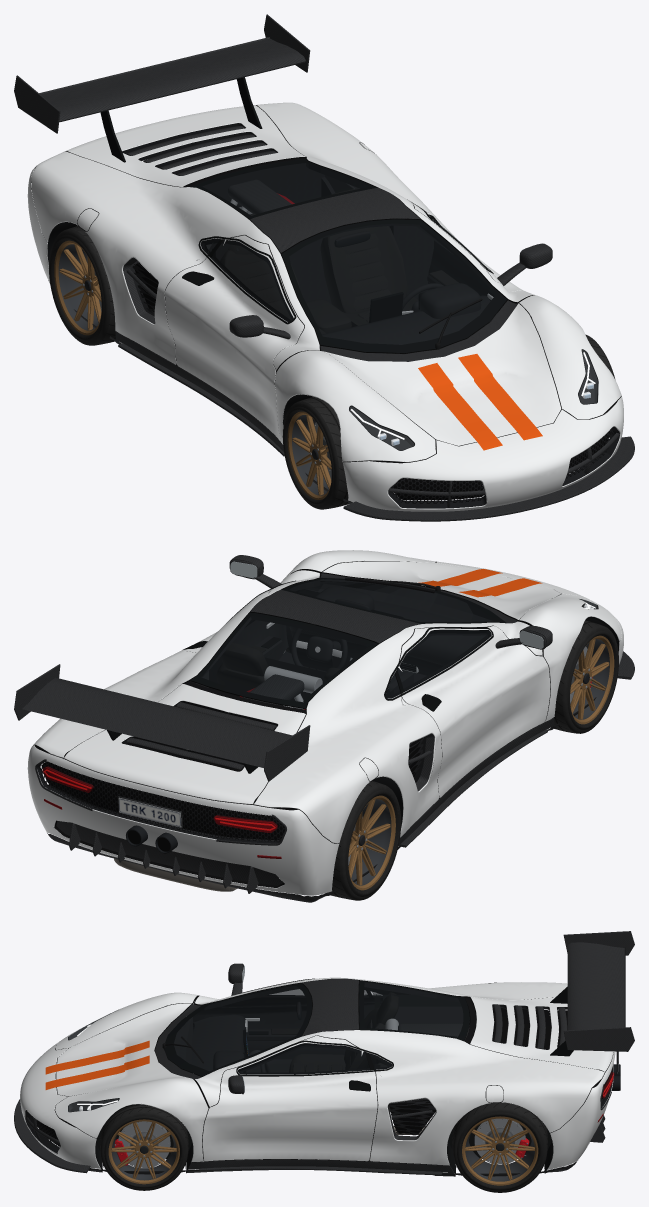
File: track-day-coupe.glb
3 renders of one model, top to bottom at view 1: azimuth 30°, elevation 25°; view 2: azimuth 150°, elevation 25°; view 3: azimuth 270°, elevation 25°, orthographic. The views are drawn at different scales.
Parts seen in each view (by area): view 1: Body, Wheel_RR, Wheel_FR; view 2: Body, Wheel_RR, Wheel_FR, Steering_Wheel; view 3: Body, Wheel_RL, Wheel_FL.
Part boxes in pixels (x1,y1,x2,y2): Body: [14, 14, 634, 521]; Wheel_RR: [49, 226, 115, 345]; Wheel_FR: [282, 397, 352, 509]; Body: [14, 550, 634, 902]; Wheel_RR: [324, 781, 401, 900]; Wheel_FR: [551, 620, 618, 733]; Steering_Wheel: [291, 628, 347, 668]; Body: [14, 931, 634, 1176]; Wheel_RL: [452, 1102, 547, 1192]; Wheel_FL: [100, 1105, 188, 1190].
Size of the model in its own units: 2.15 by 1.3 by 4.61.
Materials: 60 (12 with a texture image).
